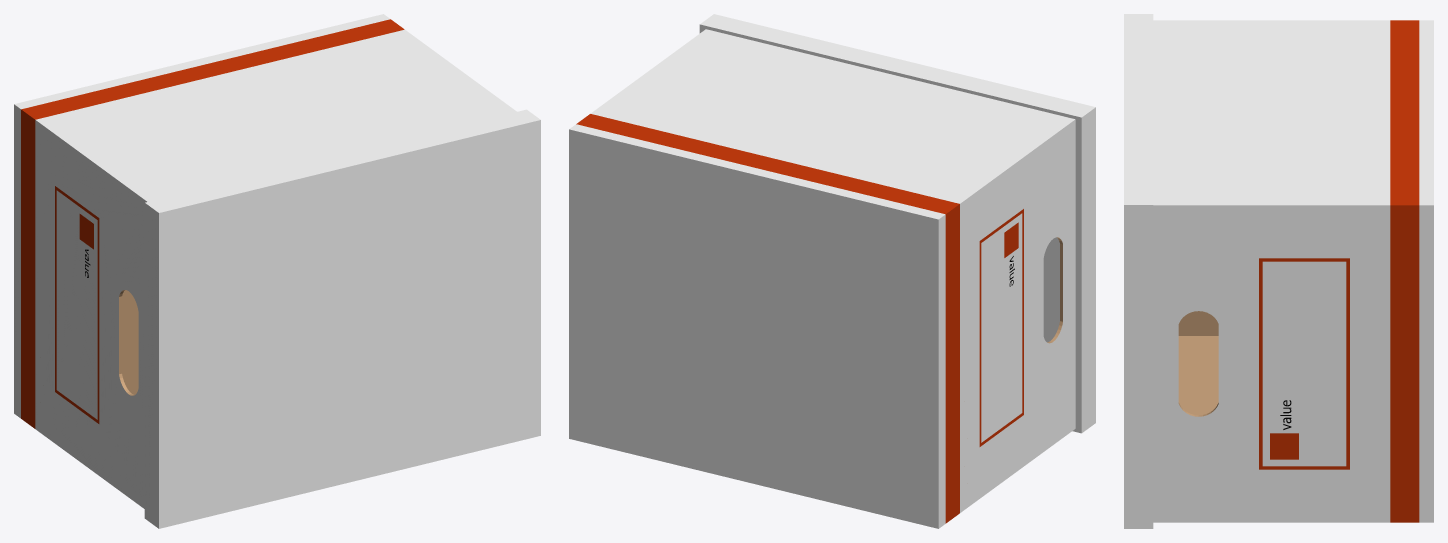
The picture shows the model from 3 angles, left to right: view 1: azimuth 30°, elevation 25°; view 2: azimuth 150°, elevation 25°; view 3: azimuth 270°, elevation 25°; orthographic projection. The views are drawn at different scales.
Parts seen in each view (by area): view 1: storage box; view 2: storage box; view 3: storage box.
Boxes of the visible parts, <box> form: storage box: <box>14,14,540,528</box>; storage box: <box>569,14,1095,528</box>; storage box: <box>1124,14,1433,528</box>.
Bounding box in the file's own units: 15.5 × 12.25 × 10.62.
